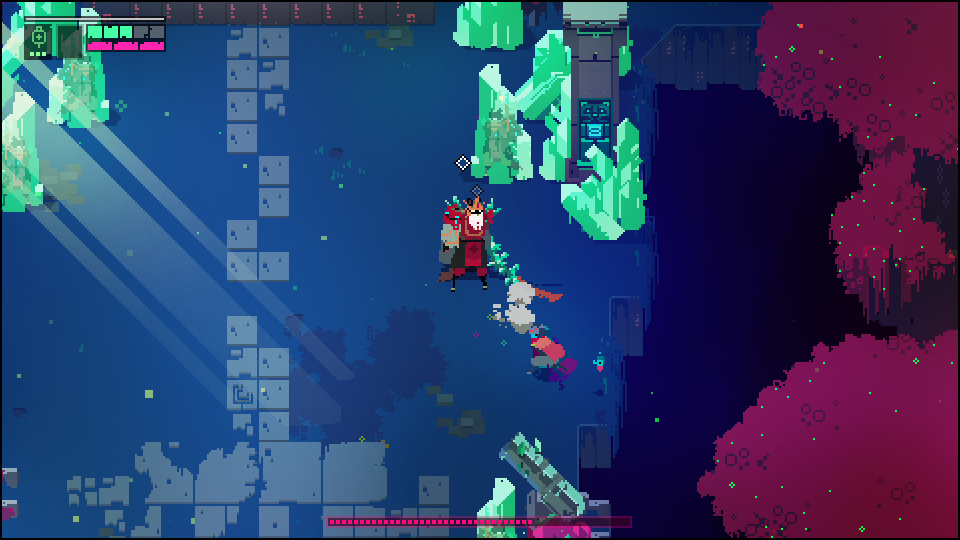hanged_man: (435, 190, 529, 296)
player: (526, 324, 571, 381)
